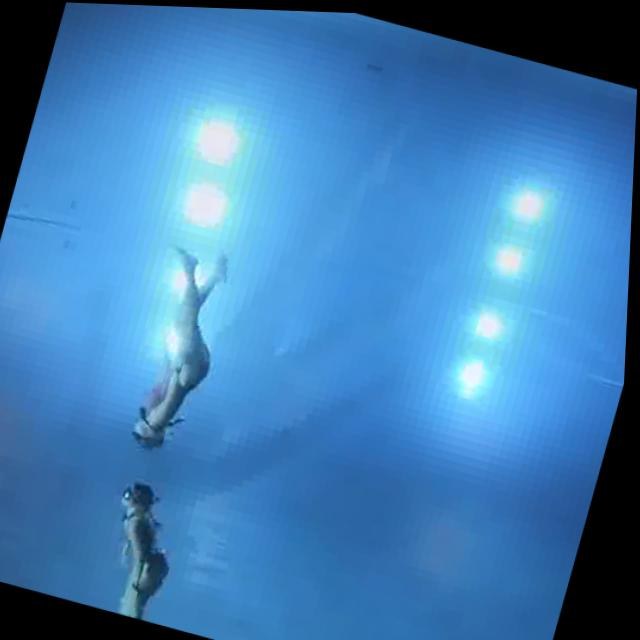human: (116, 227, 255, 463), (86, 467, 206, 625)
